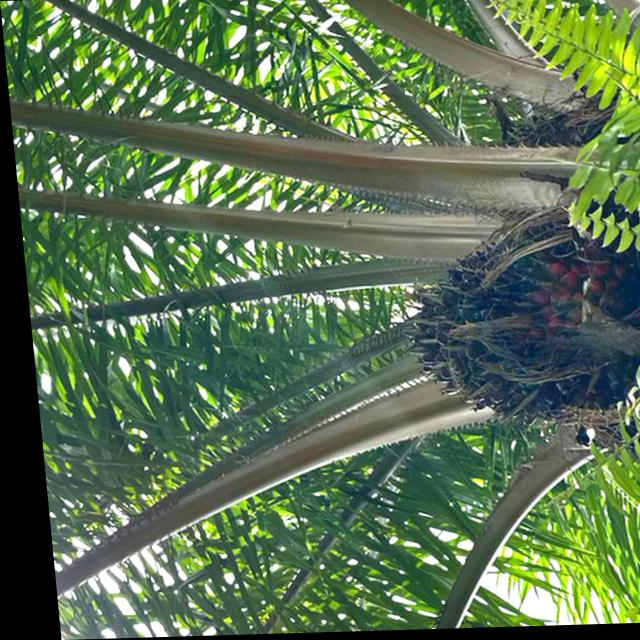ripe: (383, 201, 640, 429)
